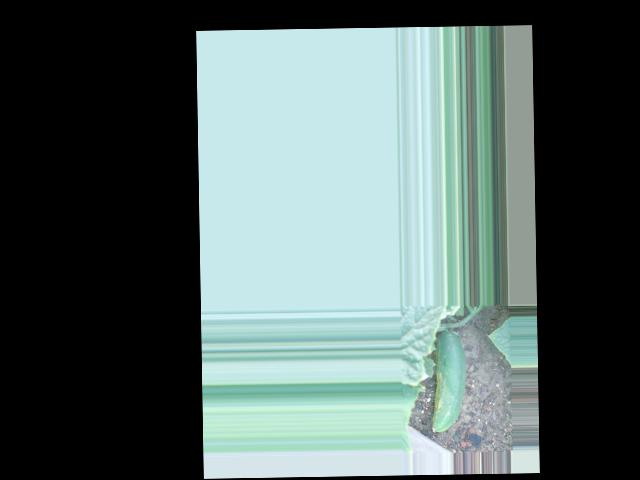cucumber: (430, 331, 466, 432)
